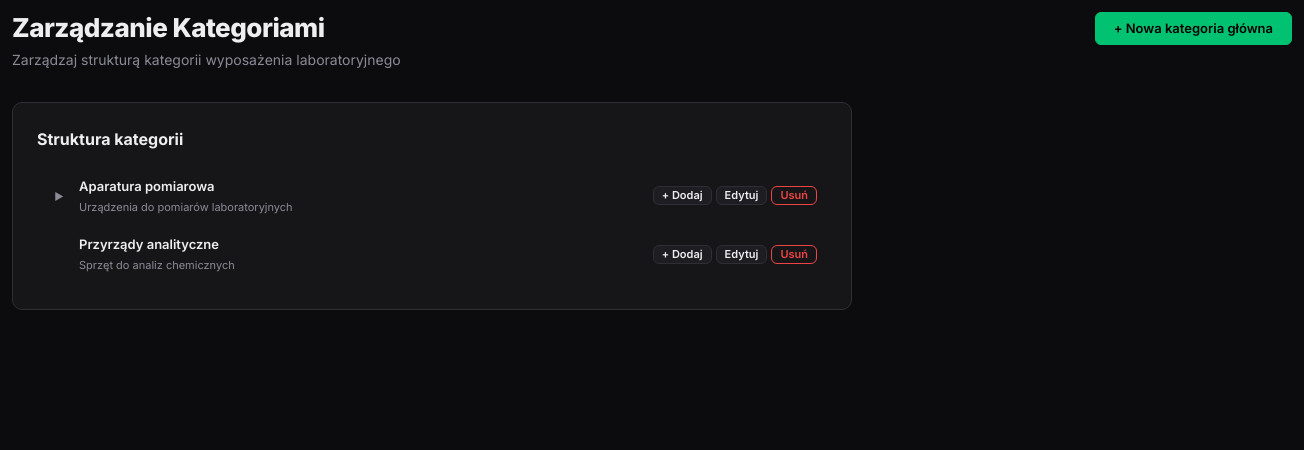
it: CategoriesPage › Subcategory form › should open subcategory form when "Add" clicked on a category
This screenshot has width=1304, height=450.
Step 1. Click the button "+ Dodaj" in the row of "Urządzenia do pomiarów laboratoryjnych" → coordinates (682, 196), box top-left (653, 186), bottom-right (712, 206)
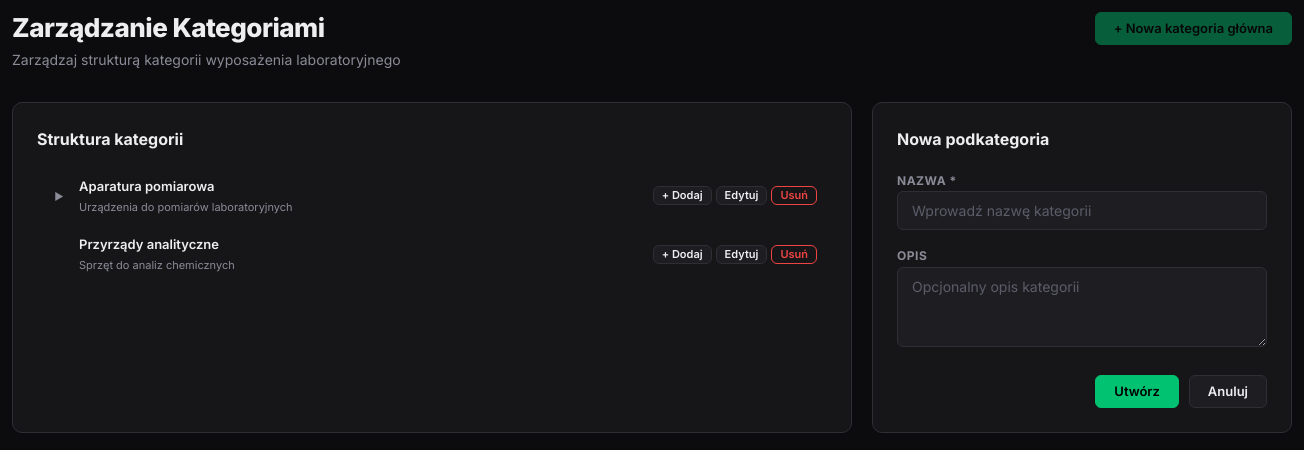
Now the heading "Nowa podkategoria" is shown, box top-left (897, 129), bottom-right (1049, 149)
